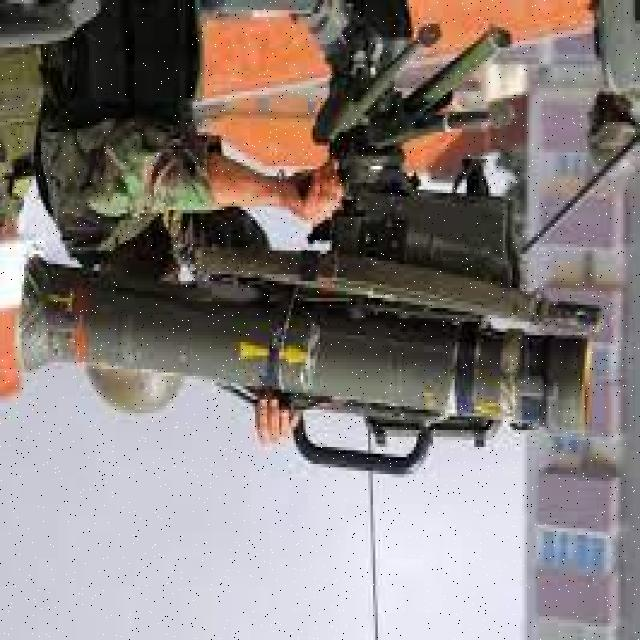bazooka: (17, 167, 601, 497)
